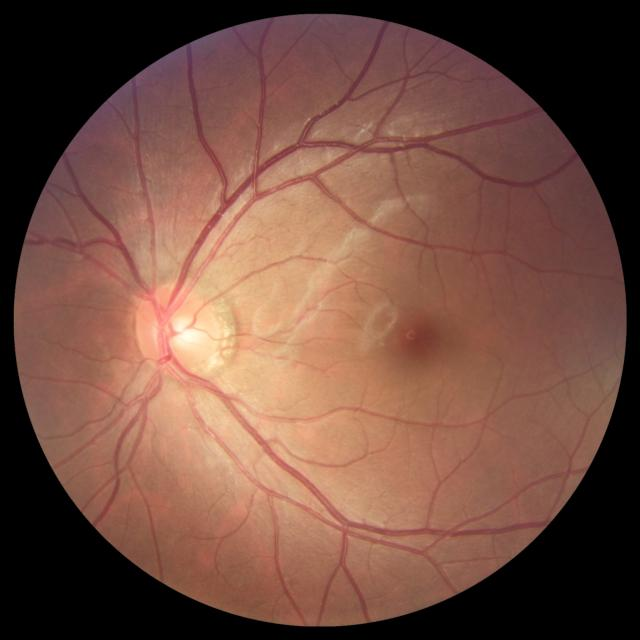OC: (159, 315, 195, 349)
OD: (136, 282, 222, 380)
